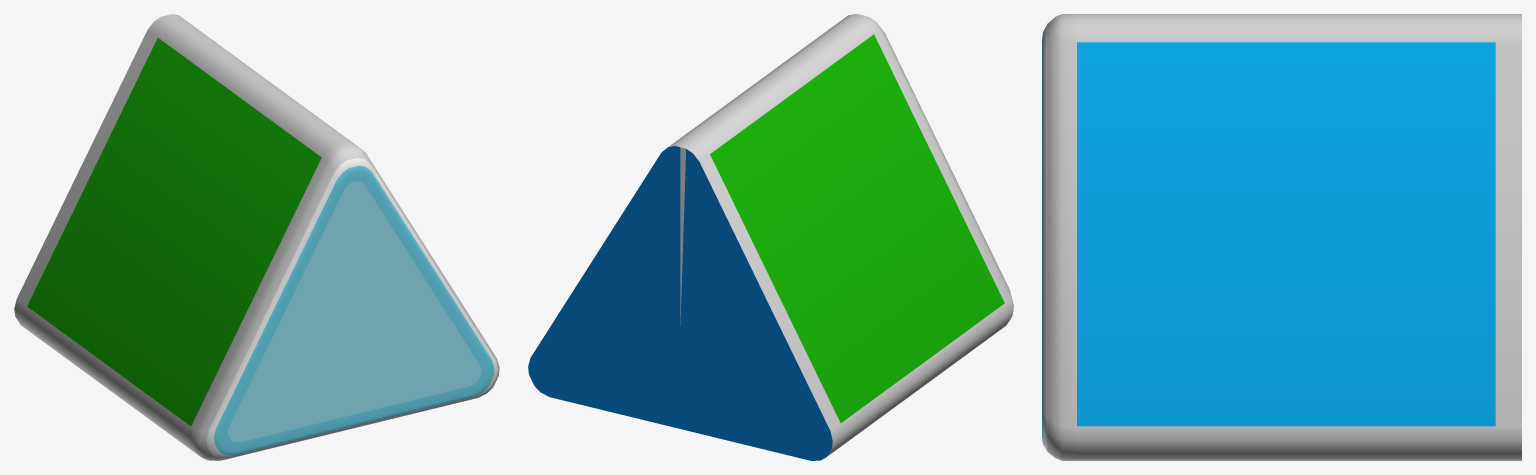
File: D_FBX_06_Bumper_00_B.fbx
3 views of the same model, side by side, from view 1: azimuth 30°, elevation 25°; view 2: azimuth 150°, elevation 25°; view 3: azimuth 270°, elevation 25° (orthographic). The views are drawn at different scales.
Visible parts, largest first — view 1: D_FBX_06_Bumper_00_B; view 2: D_FBX_06_Bumper_00_B; view 3: D_FBX_06_Bumper_00_B.
Boxes of the visible parts, x1=… form: D_FBX_06_Bumper_00_B: x1=14, y1=14, x2=499, y2=460; D_FBX_06_Bumper_00_B: x1=528, y1=14, x2=1013, y2=460; D_FBX_06_Bumper_00_B: x1=1042, y1=14, x2=1521, y2=460.
Size of the model in its own units: 1.95 by 1.73 by 2.09.
